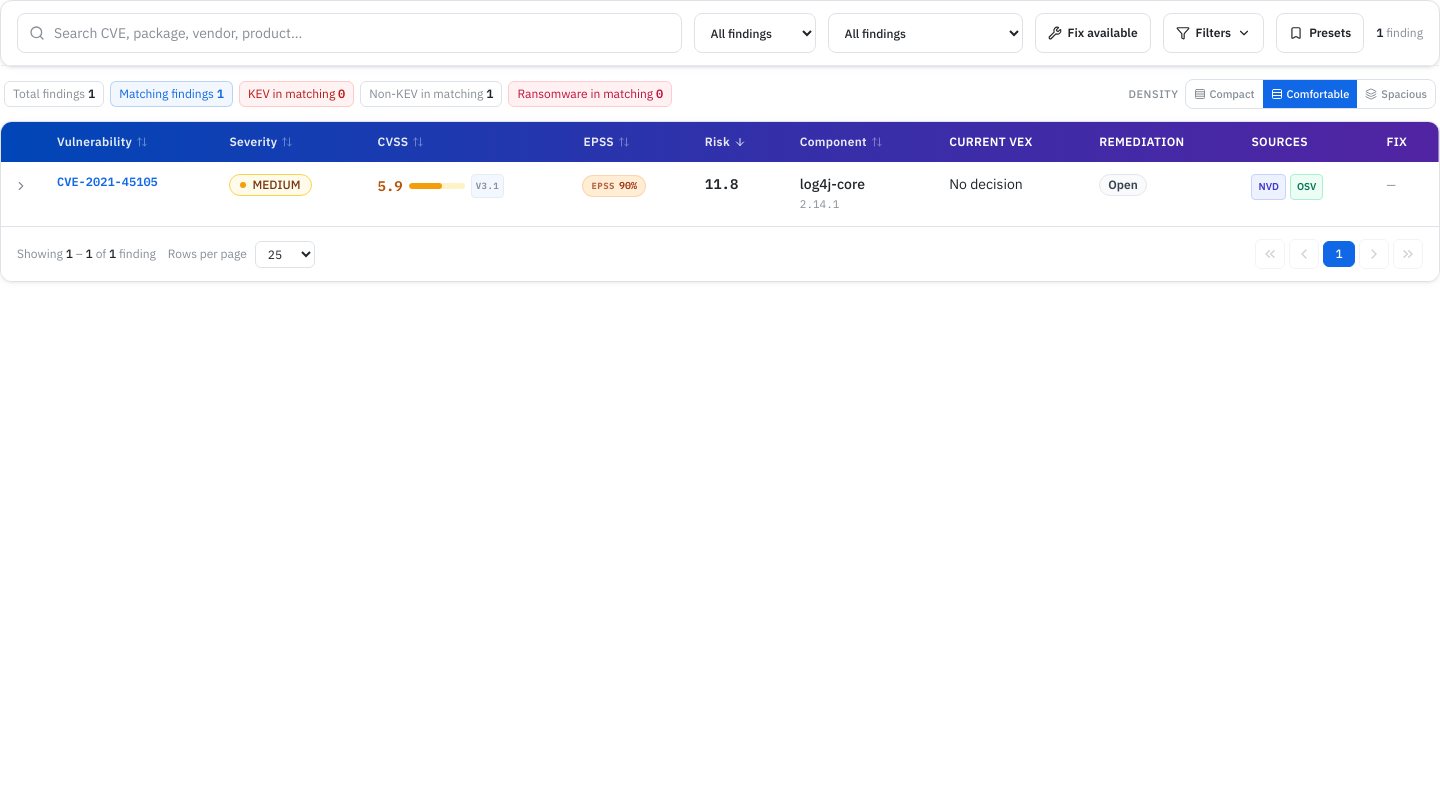
Test case: canonical finding evidence › shows the selected assessment, original identity, and both source classifications
Click the button named "Expand details" at (21, 186), box [9, 174, 33, 198]
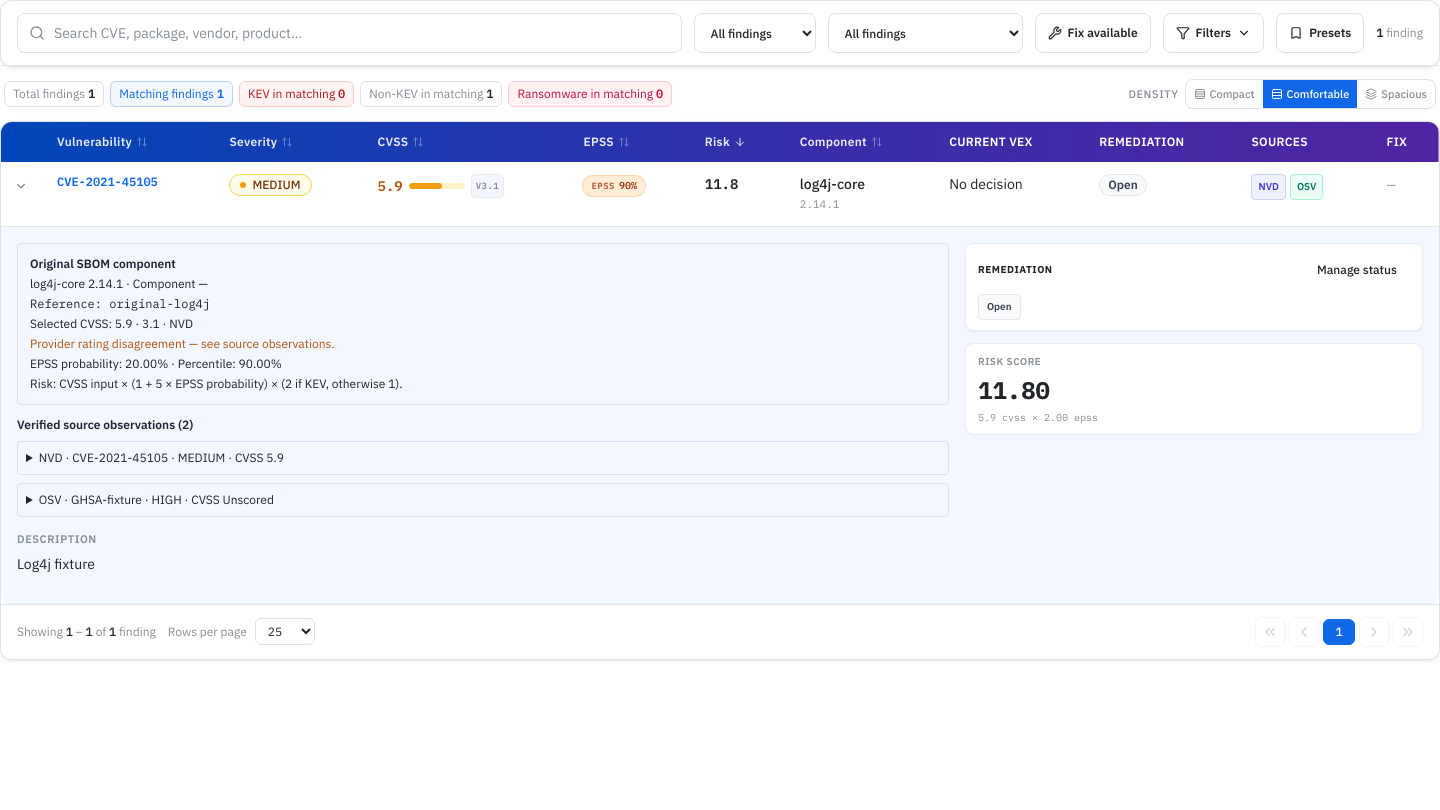
Expected: the text "Selected CVSS: 5.9 · 3.1 · NVD" is shown, [30, 316, 193, 331]
Expected: the text "Reference: original-log4j" is shown, [30, 296, 210, 311]
Expected: the text "Provider rating disagreement — see source observations." is shown, [30, 336, 335, 351]
